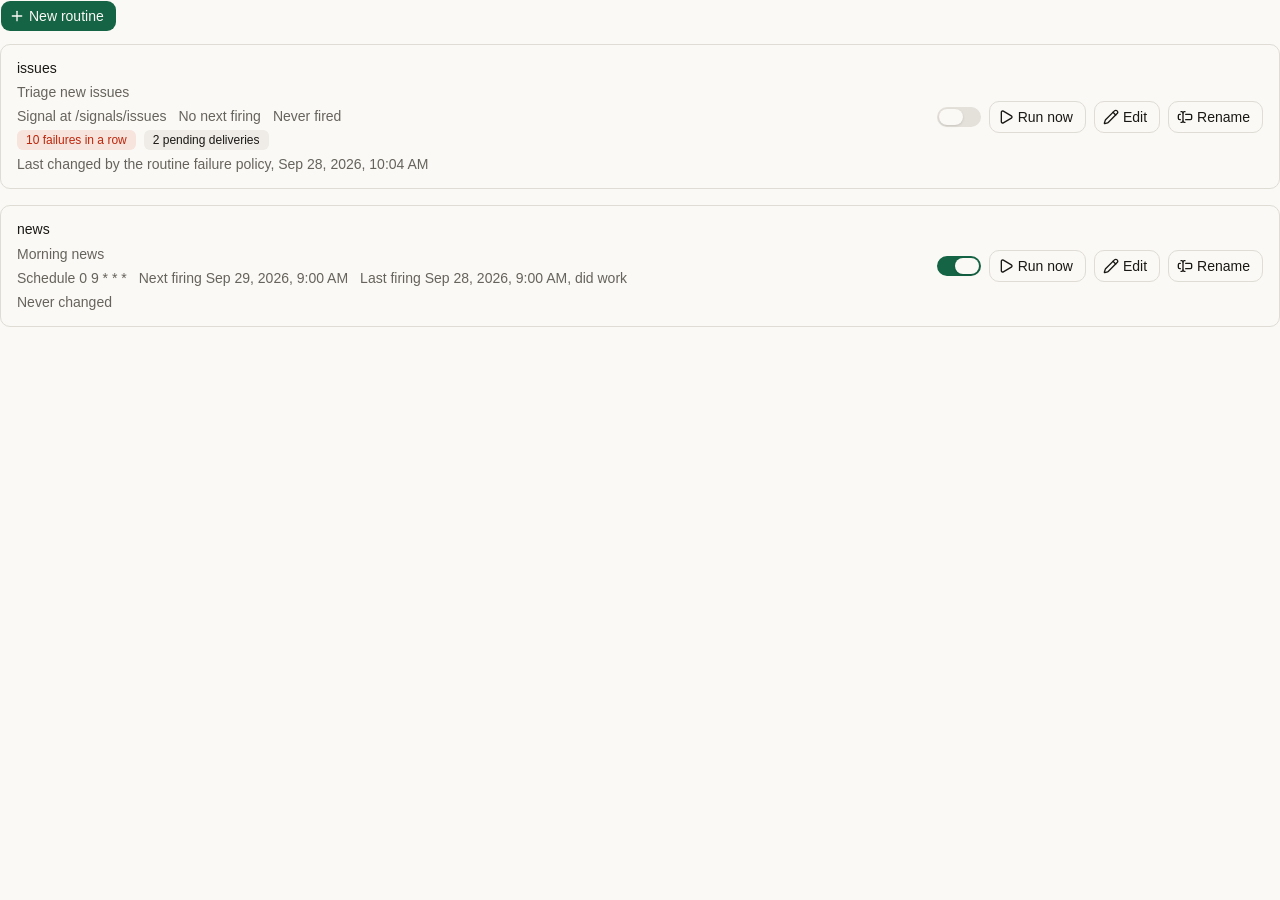
RoutinesSection › renames a routine, naming its old and new signal paths, and lists it under the new name
The image size is (1280, 900).
Click the button "Rename" in the row of "Signal at /signals/issues".
click(1216, 117)  # box [1168,101,1263,133]
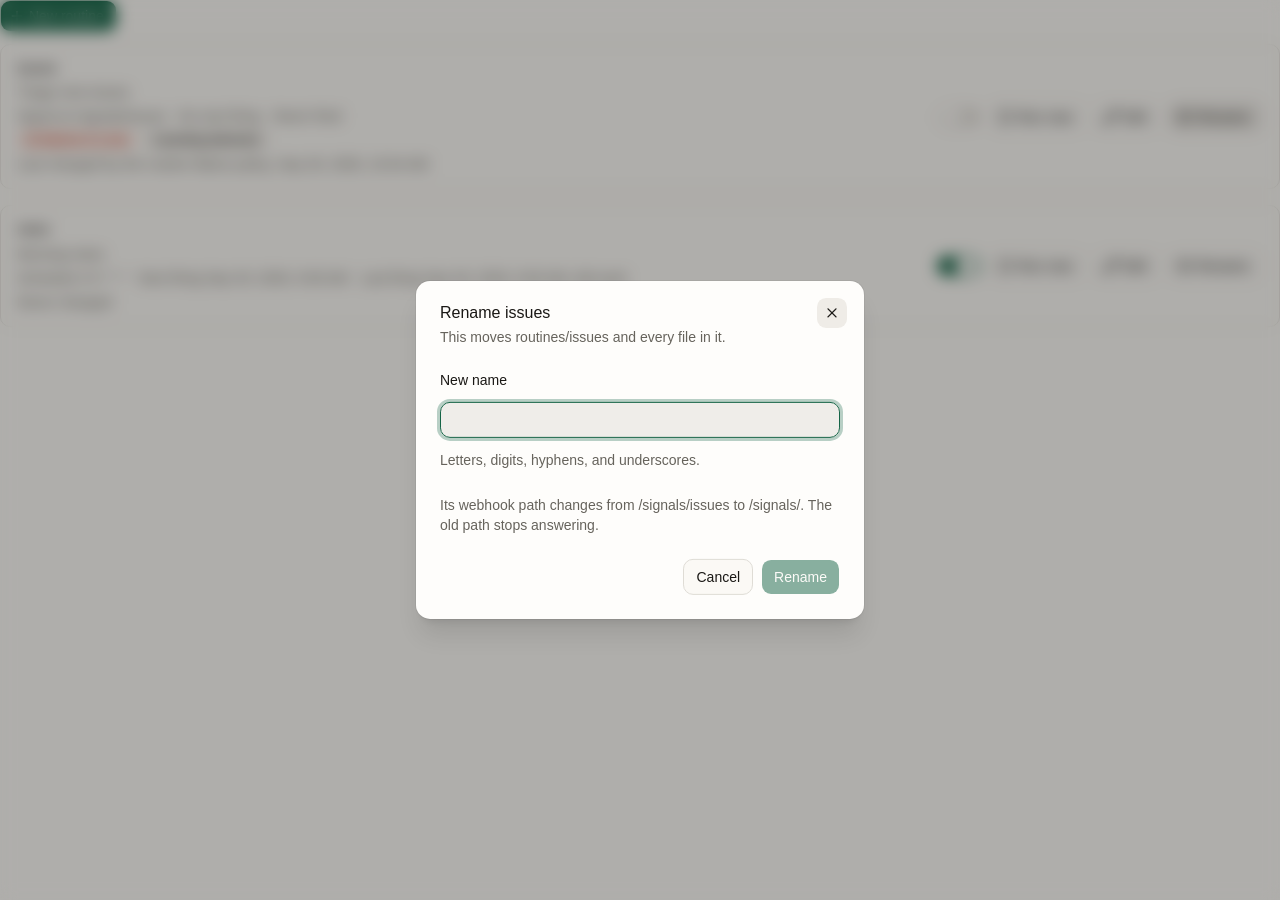
Type "triage" into the field labelled "New name".
click(640, 420); type("triage")  # box [440,402,840,438]
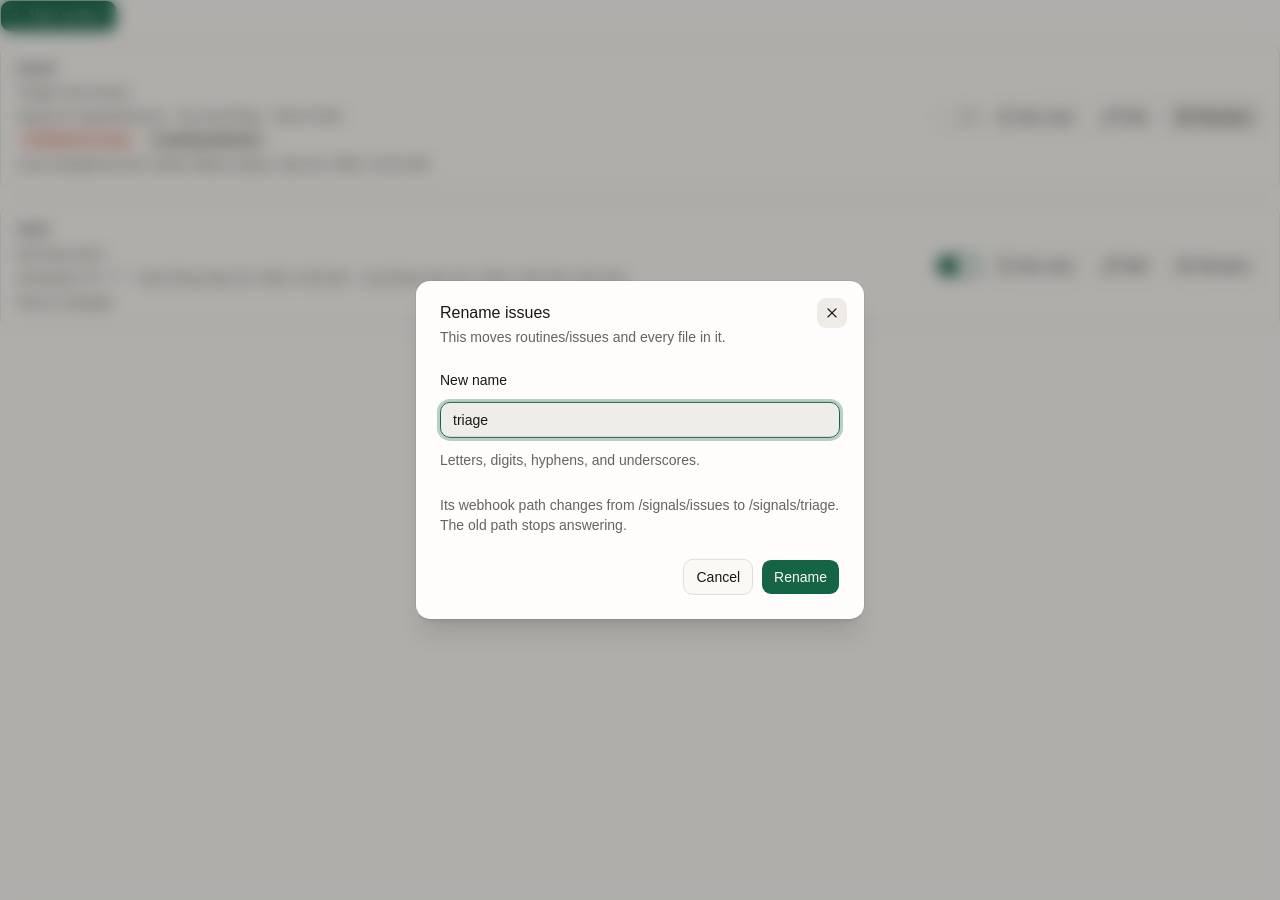
Expected: the text "Its webhook path changes from /signals/issues to /signals/triage. The old path stops answering." is shown, [440,495,840,535]
Click the button "Rename".
click(801, 577)  # box [761,559,840,595]
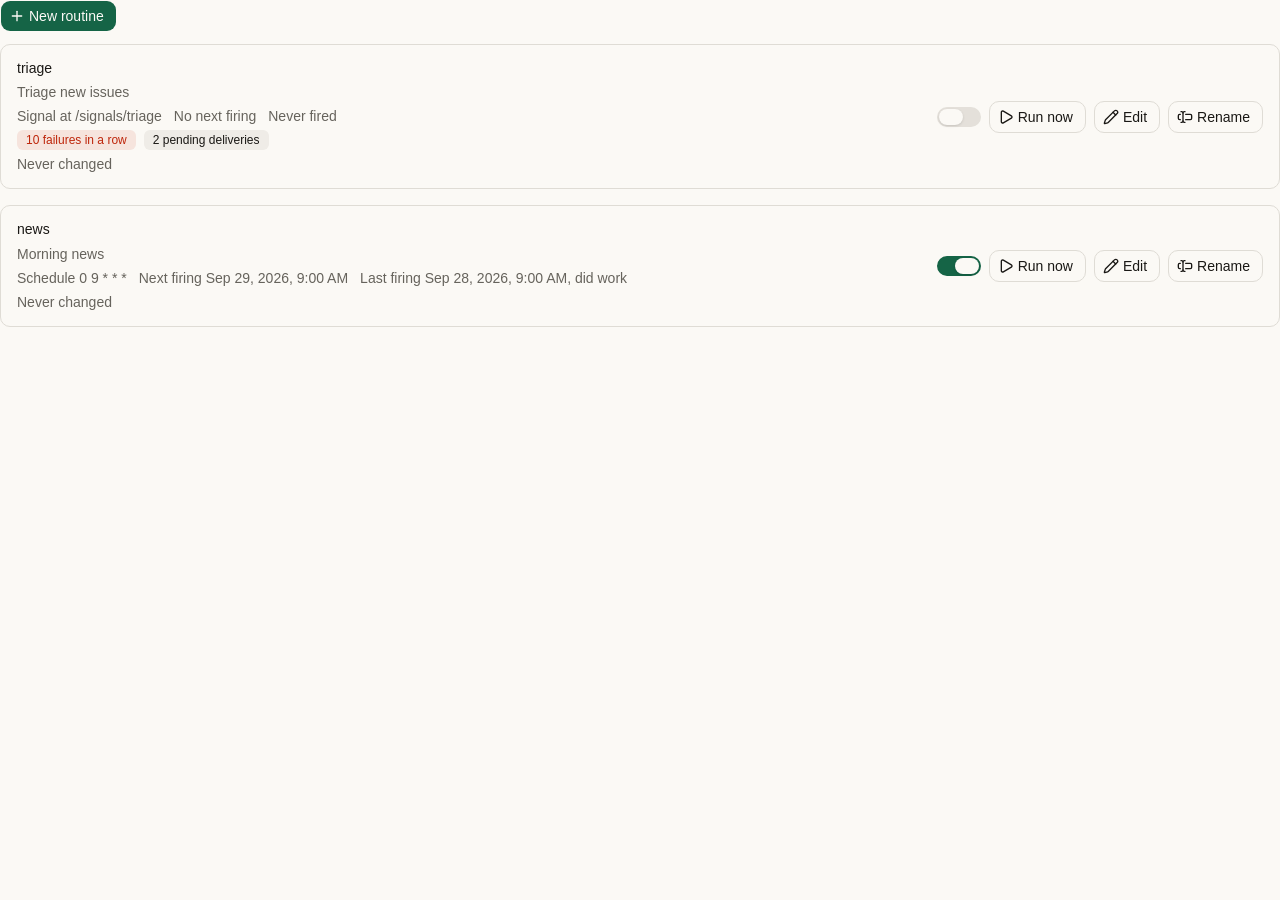
Expected: the list item "triage" is shown, [0,44,1279,189]
Expected: the dialog is gone
